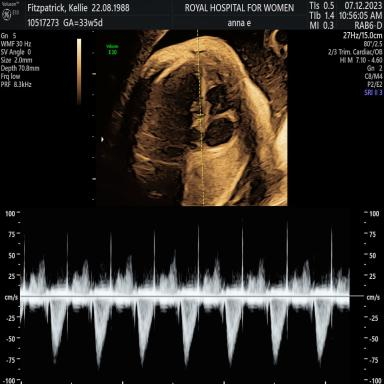Ultrasound-Waves: (25, 214, 350, 384)
